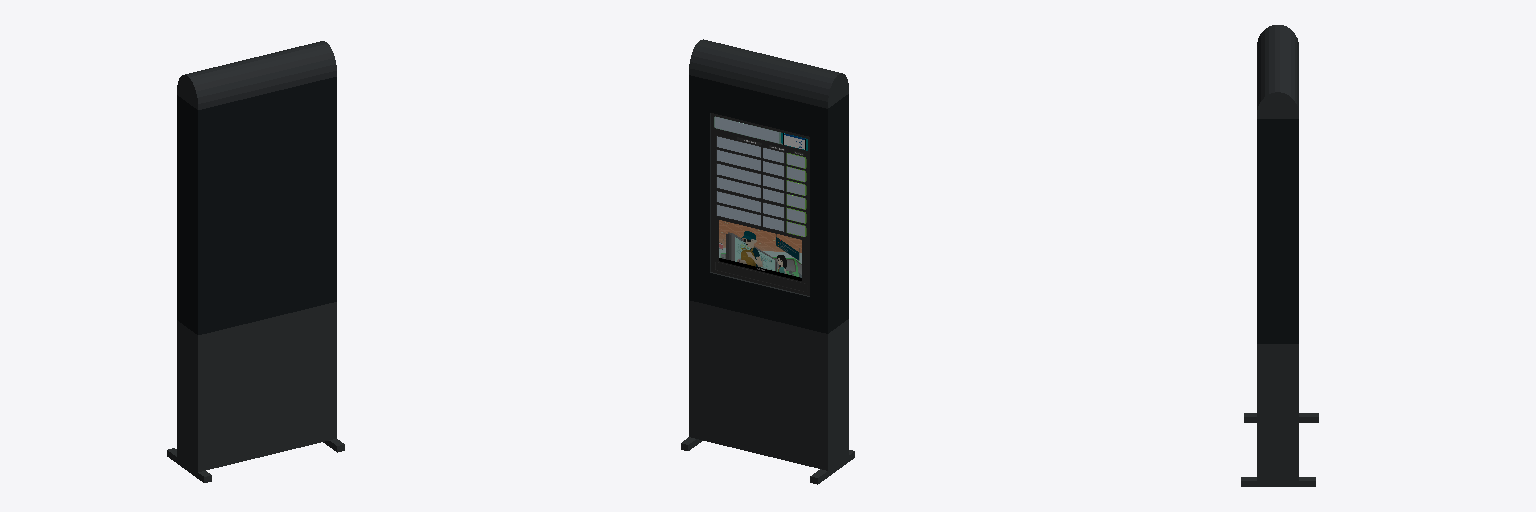
3 renders of one model, left to right at view 1: azimuth 30°, elevation 25°; view 2: azimuth 150°, elevation 25°; view 3: azimuth 270°, elevation 25°, orthographic.
Parts seen in each view (by area): view 1: Mesh21 Group2 Group1 Model, Mesh22 Group23 Group1 Model, Mesh23 Group24 Group1 Model; view 2: Mesh21 Group2 Group1 Model, Mesh22 Group23 Group1 Model, Mesh23 Group24 Group1 Model, Mesh1 Group3 Group2 Group1 Model; view 3: Mesh21 Group2 Group1 Model, Mesh22 Group23 Group1 Model, Mesh23 Group24 Group1 Model, Mesh24 Group25 Group1 Model.
Part boxes in pixels (left/top/right/bottom): Mesh21 Group2 Group1 Model: left=177, top=77, right=336, bottom=334; Mesh22 Group23 Group1 Model: left=177, top=302, right=336, bottom=471; Mesh23 Group24 Group1 Model: left=177, top=41, right=336, bottom=109; Mesh21 Group2 Group1 Model: left=689, top=75, right=848, bottom=333; Mesh22 Group23 Group1 Model: left=689, top=300, right=848, bottom=470; Mesh23 Group24 Group1 Model: left=689, top=39, right=848, bottom=108; Mesh1 Group3 Group2 Group1 Model: left=715, top=117, right=778, bottom=142; Mesh21 Group2 Group1 Model: left=1257, top=119, right=1298, bottom=343; Mesh22 Group23 Group1 Model: left=1257, top=344, right=1298, bottom=480; Mesh23 Group24 Group1 Model: left=1257, top=25, right=1298, bottom=118; Mesh24 Group25 Group1 Model: left=1241, top=477, right=1315, bottom=486.
Size of the model in its own units: 0.68 by 1.85 by 0.3304.
Materials: 27 (7 with a texture image).